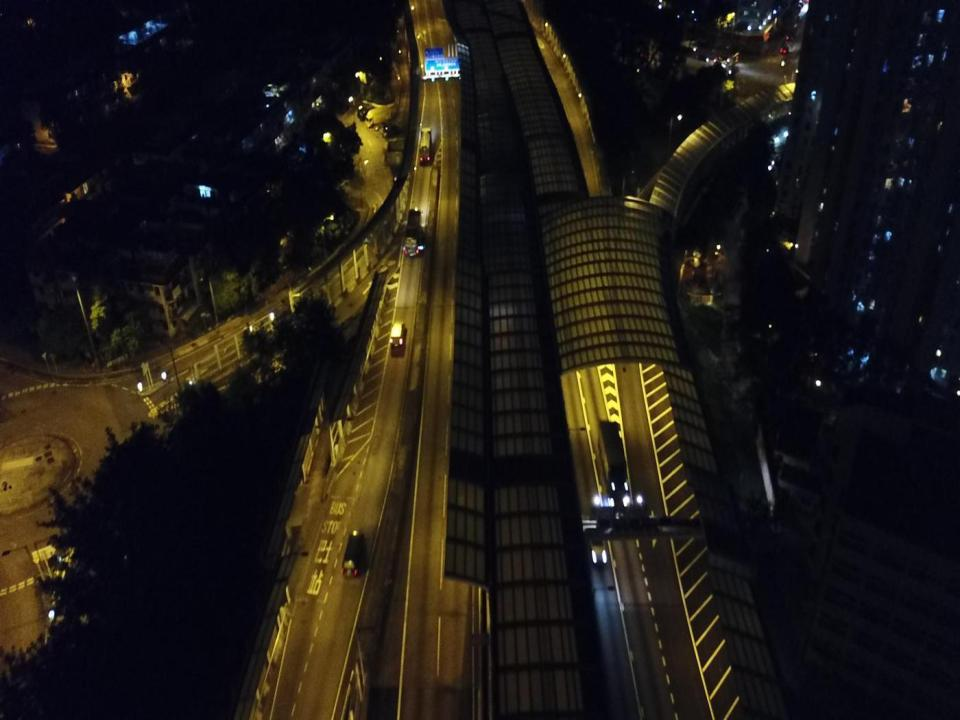bus: (403, 206, 423, 257)
car: (586, 519, 608, 566)
truck: (596, 419, 629, 499), (342, 531, 368, 576), (364, 103, 392, 128), (418, 126, 433, 165)
van: (388, 320, 406, 348)
